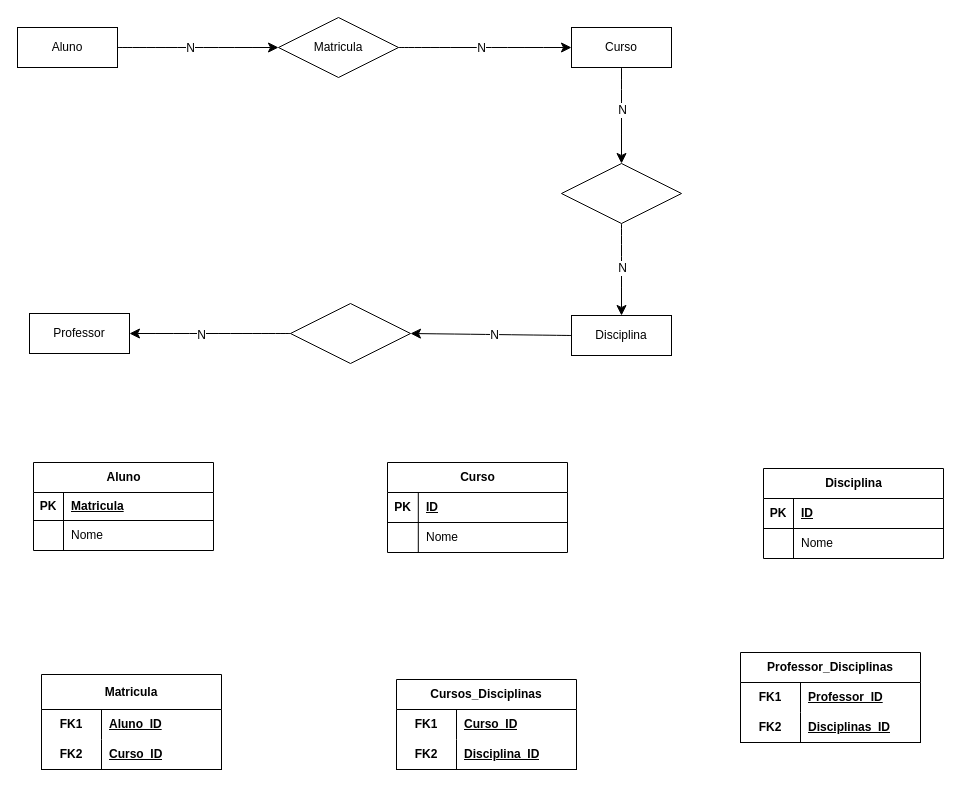
This 961x787 diagram has some shape labels left out. The shapes that lost their labels are listed below. From the top down, each one's centre as x and y in pixels, then its label:
At point (621, 193): "Composto".
At point (350, 333): "Leciona".
